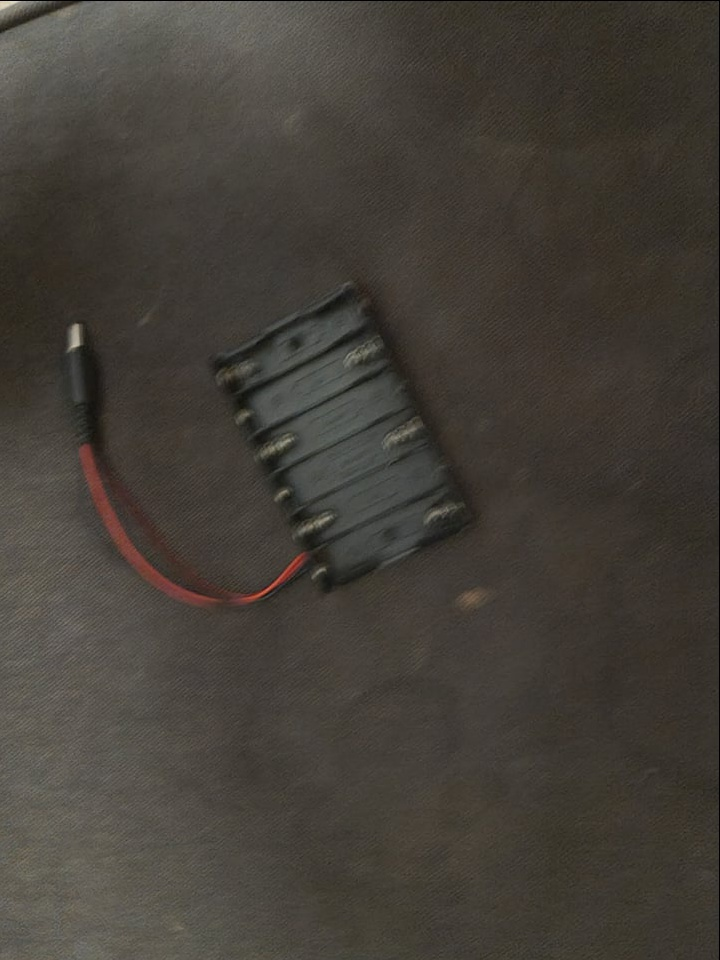BATTERY BOX: (225, 262, 453, 599)
